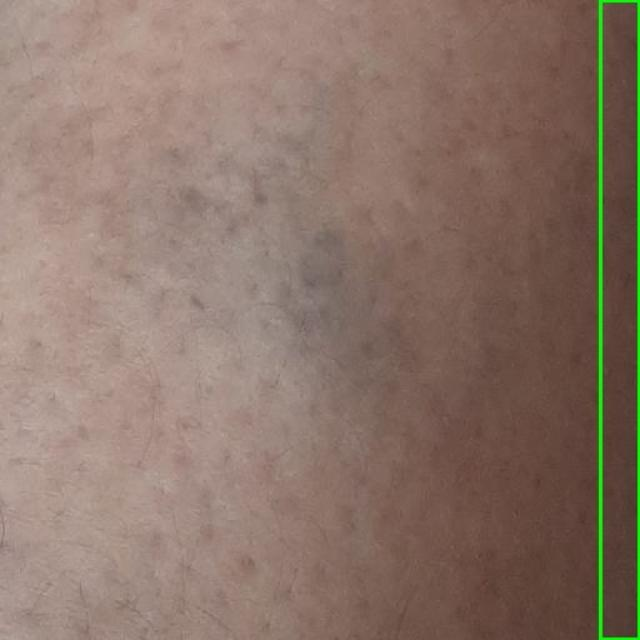Eczema: (600, 0, 639, 639)
